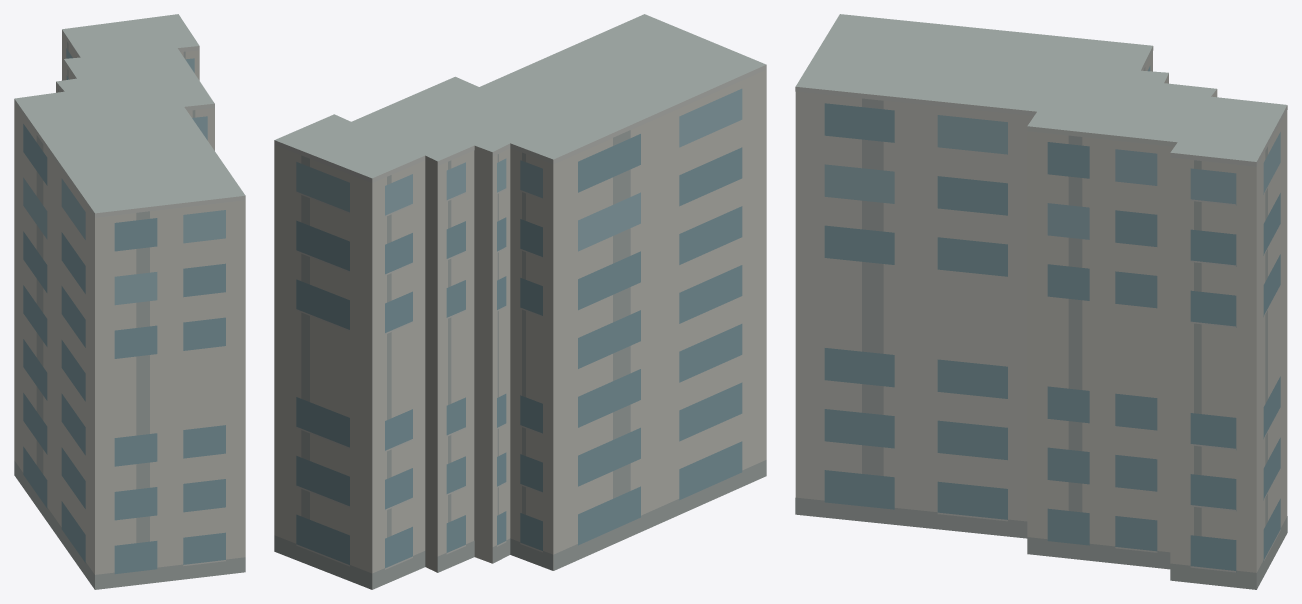
Rendered from survey-upis-32457833.glb.
The picture shows the model from 3 angles, left to right: view 1: azimuth 30°, elevation 25°; view 2: azimuth 150°, elevation 25°; view 3: azimuth 270°, elevation 25°; orthographic projection. The views are drawn at different scales.
Parts seen in each view (by area): view 1: survey-upis-32457833.tmp; view 2: survey-upis-32457833.tmp; view 3: survey-upis-32457833.tmp.
Boxes of the visible parts, <box> form: survey-upis-32457833.tmp: <box>14,14,245,589</box>; survey-upis-32457833.tmp: <box>274,14,766,589</box>; survey-upis-32457833.tmp: <box>795,14,1287,589</box>.
Size of the model in its own units: 15.74 by 21.2 by 22.1.
